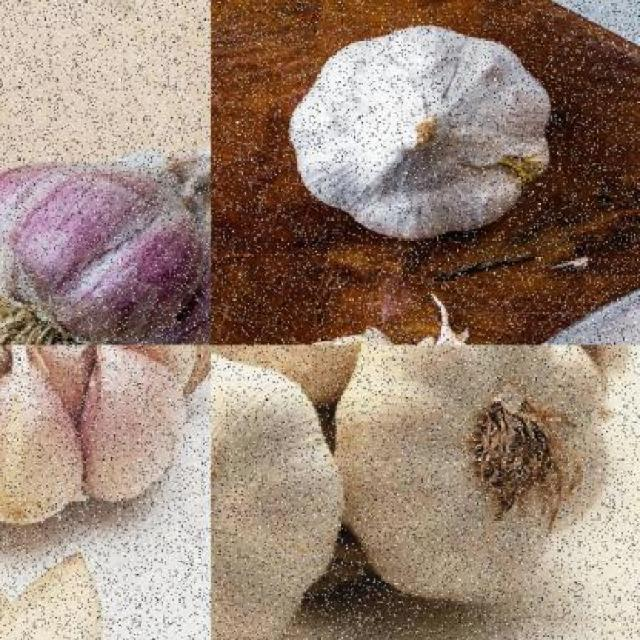garlic: (329, 344, 606, 610), (286, 21, 557, 244), (0, 146, 209, 343), (210, 350, 350, 639), (0, 344, 209, 528), (0, 548, 108, 640)
